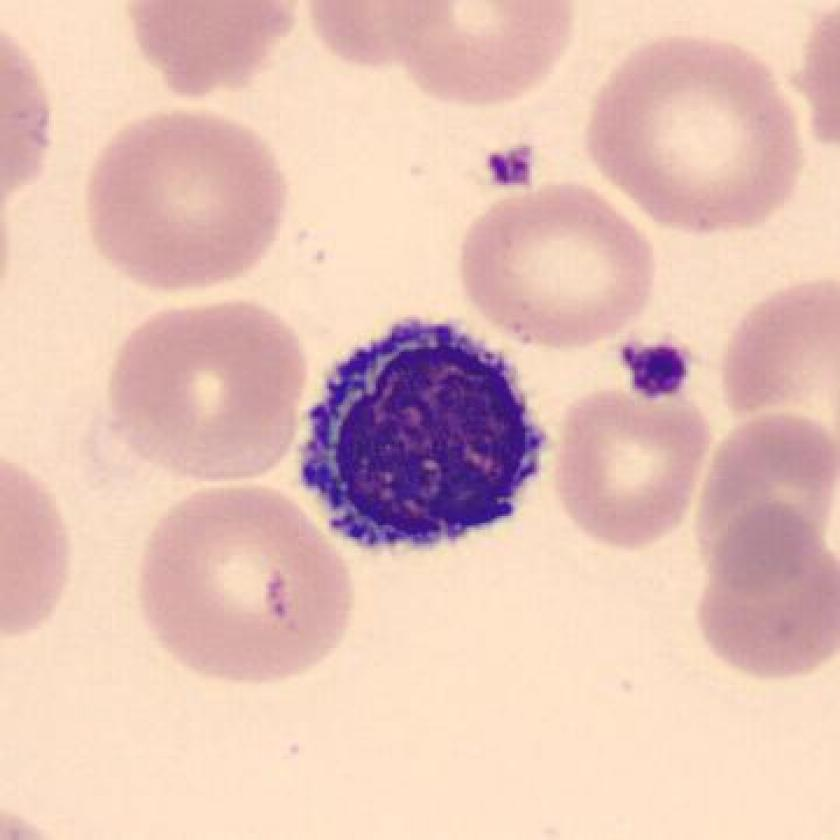lymphocyte: (286, 297, 561, 568)
platelets: (616, 334, 701, 410), (479, 143, 544, 194)
